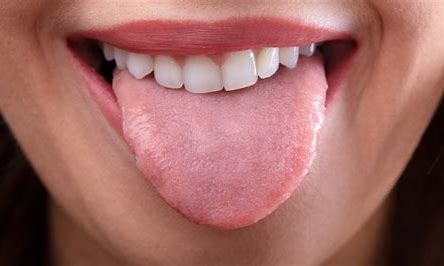baitaishe: (117, 94, 327, 231)
